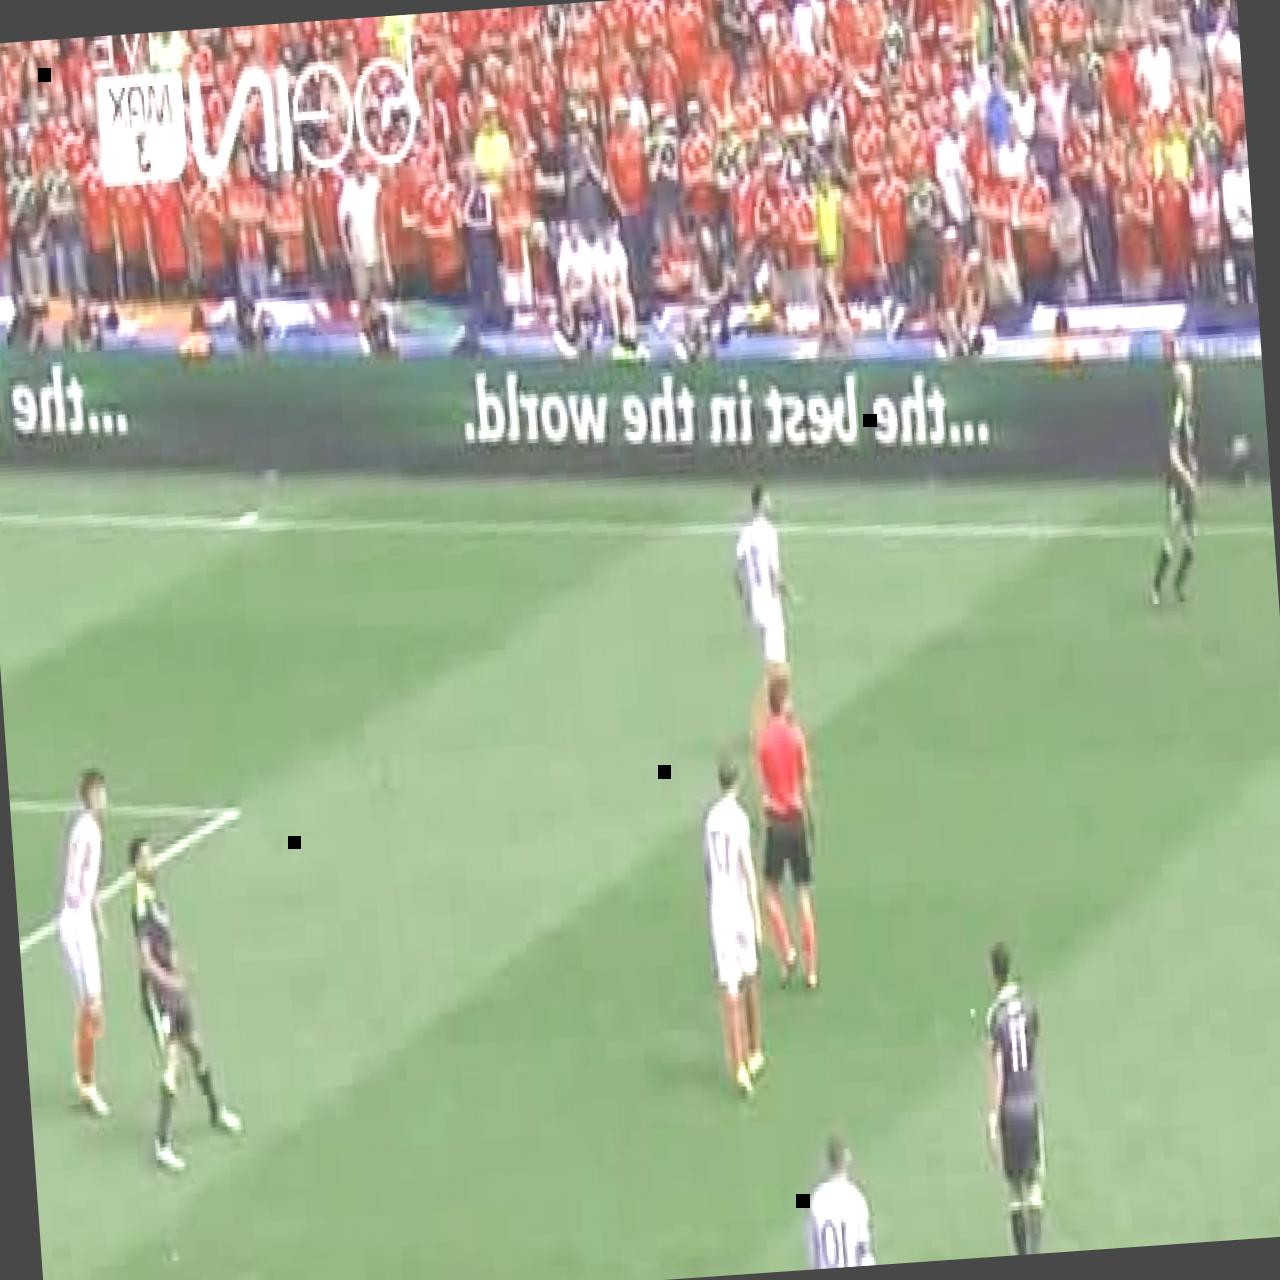football: (122, 828, 246, 1176), (48, 766, 132, 1124), (696, 755, 774, 1101), (976, 936, 1058, 1256), (746, 678, 827, 1001), (730, 478, 806, 749), (1134, 356, 1210, 604), (802, 1122, 876, 1270)
